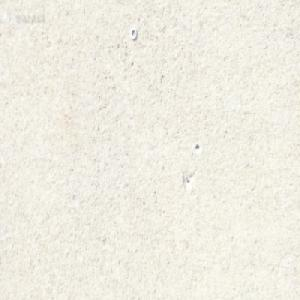Washer: (130, 25, 138, 39)
